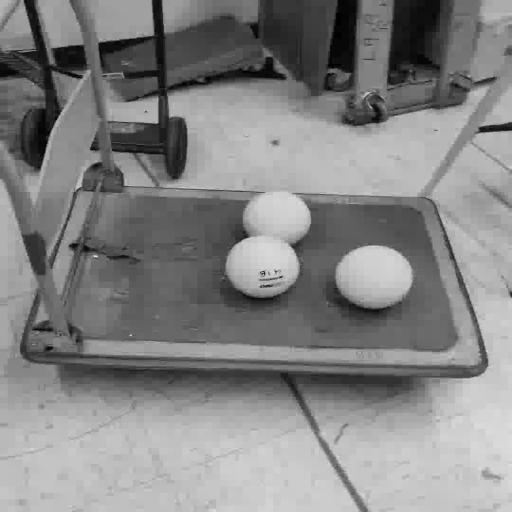fuel: (335, 246, 413, 309), (226, 236, 300, 298), (243, 191, 311, 244)
